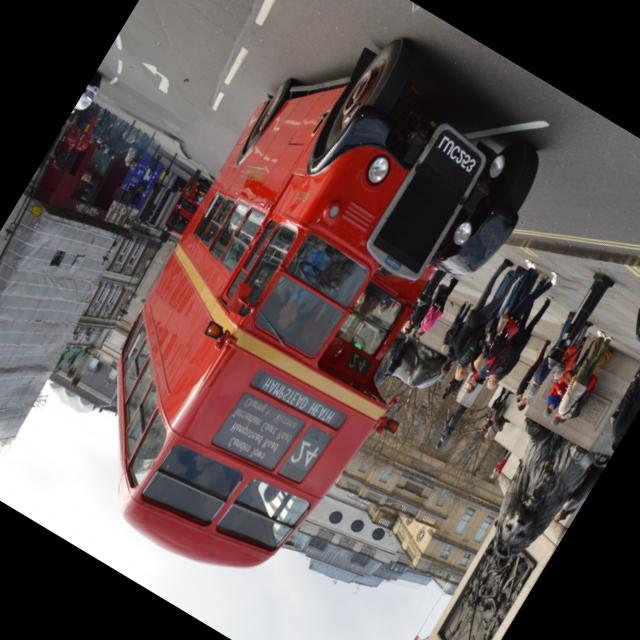bus: (37, 0, 571, 620), (159, 175, 212, 241)
